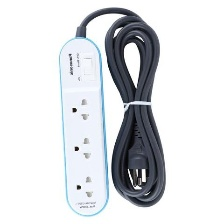three_eye_plug: (56, 35, 110, 217)
